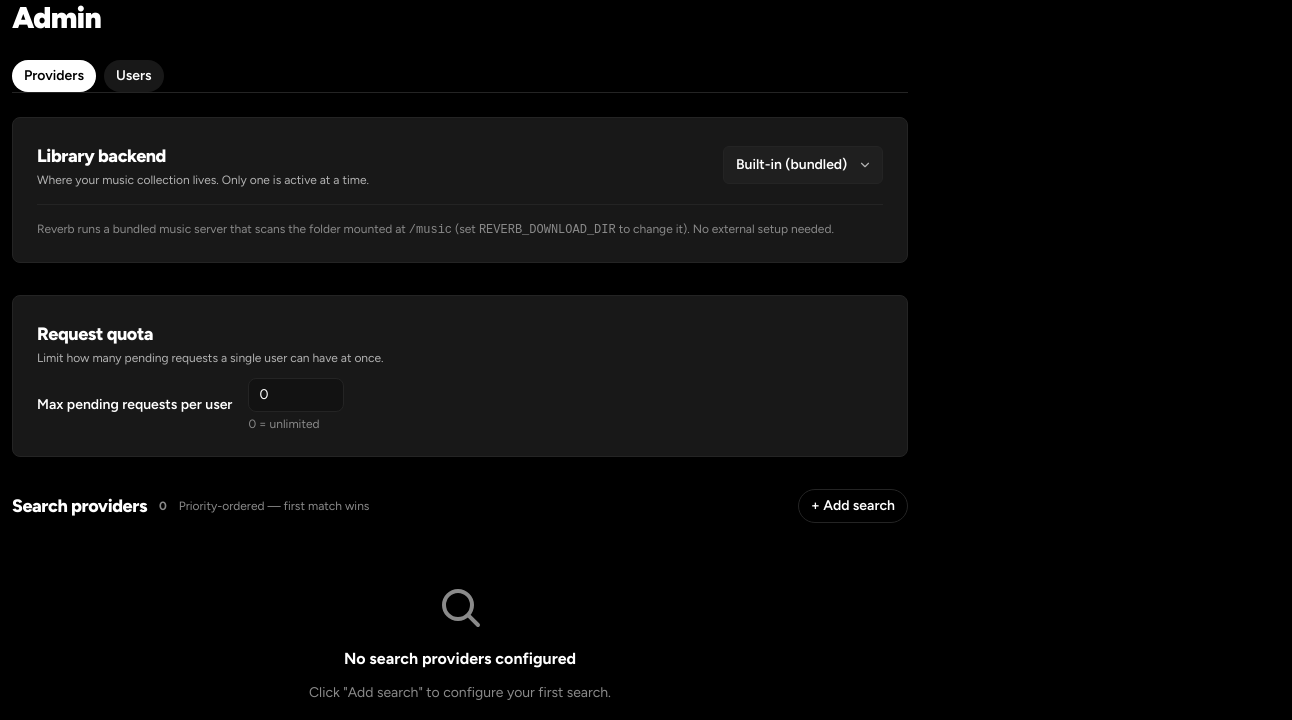
Test: Admin › Cancel button closes the inline AdapterForm
The width and height of the screenshot is (1292, 720).
Click the button "+ Add search" at (853, 506), box [798,489,908,523]
(page scrolled)
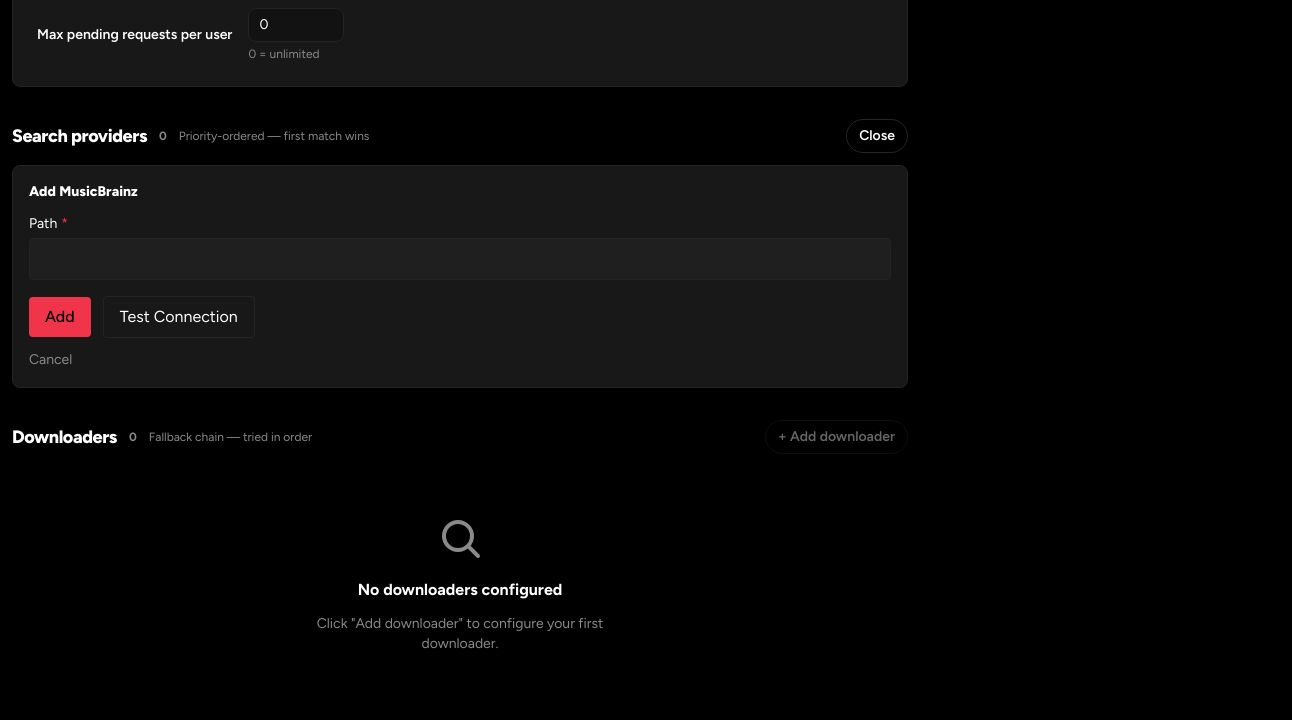
Click the button "Cancel" at (51, 360), box [29,350,72,370]
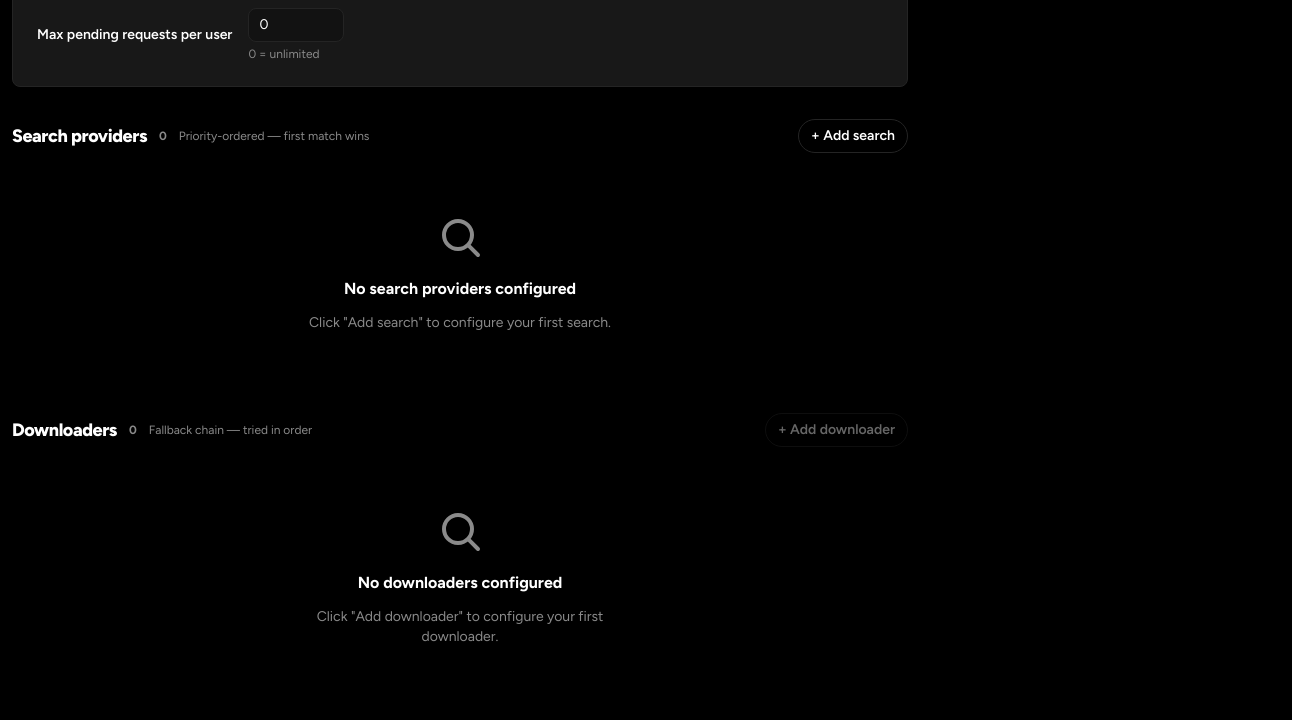
Expected: the label labelled "Path" is gone
